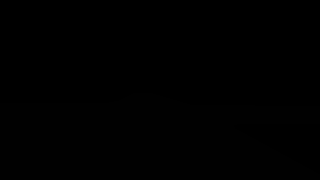go_ahead: (245, 1, 297, 43)
